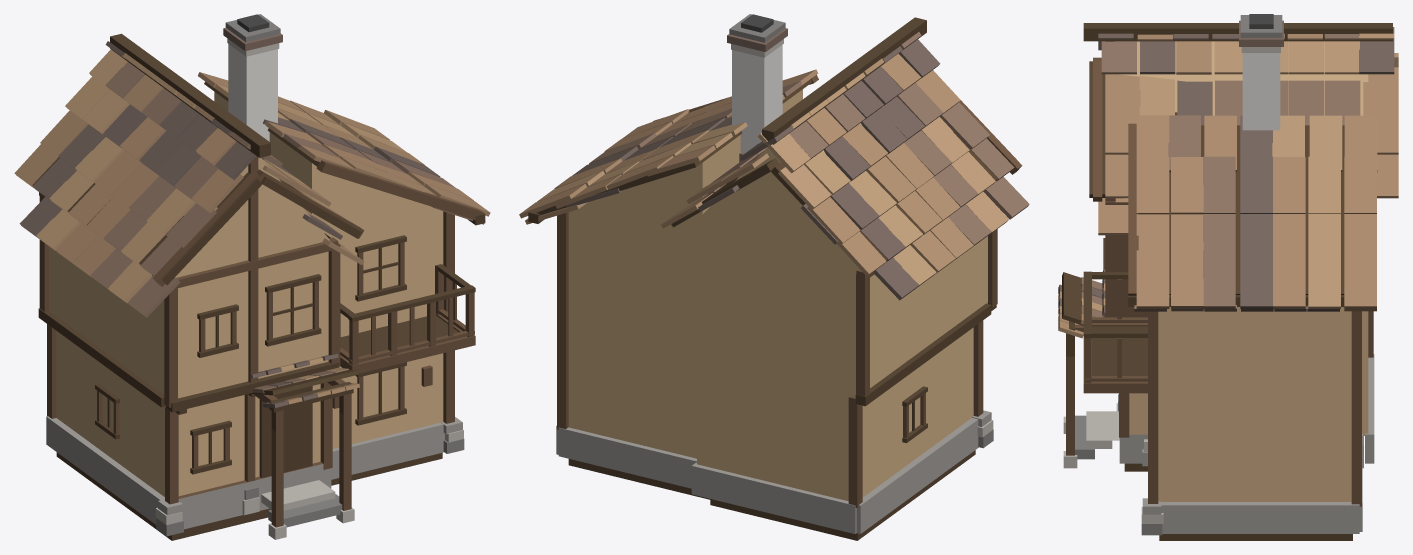
File: medieval8.fbx
3 renders of one model, left to right at view 1: azimuth 30°, elevation 25°; view 2: azimuth 150°, elevation 25°; view 3: azimuth 270°, elevation 25°, orthographic. The views are drawn at different scales.
Parts seen in each view (by area): view 1: Timber_Jetty_Side; view 2: Timber_Jetty_Side; view 3: Timber_Jetty_Side.
Boxes of the visible parts, x1,y1,x2,y2 form: Timber_Jetty_Side: (14, 14, 490, 540); Timber_Jetty_Side: (519, 14, 1029, 540); Timber_Jetty_Side: (1058, 14, 1398, 540).
Size of the model in its own units: 754 by 860 by 588.
